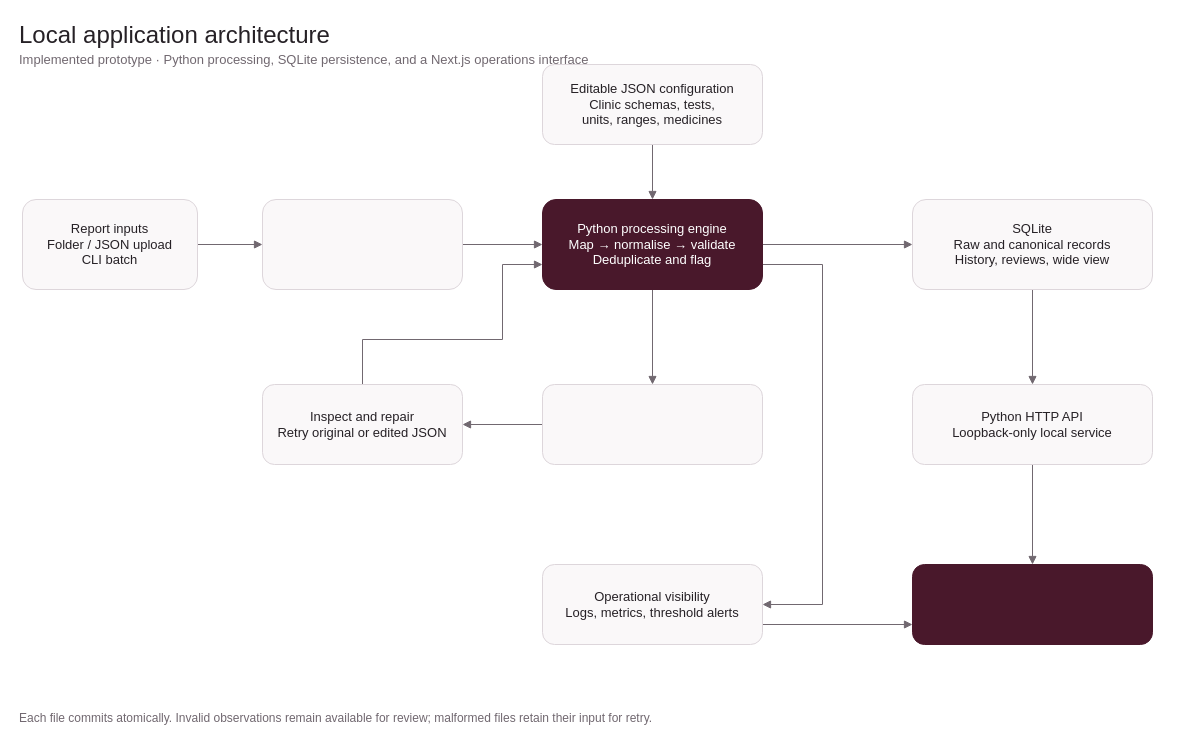
Some shapes in this 1204 by 754 pixel diagram are drawn without their labels. The centre of each missing label's shape, as x and y in pixels:
"Failed-file store Original payload and error Retry attempt audit" belongs at pixel 652 424.
"Intake Discovery and retention Persistent watcher queue" belongs at pixel 362 244.
"Next.js interface API proxy and operations UI" belongs at pixel 1032 604.
